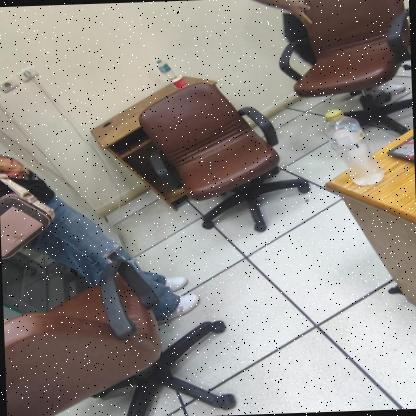chair: (136, 76, 296, 243), (270, 0, 412, 138)
